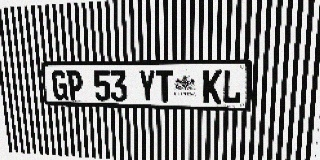3: (110, 70, 127, 102)
5: (94, 70, 111, 101)
G: (51, 70, 68, 100)
K: (203, 69, 222, 104)
L: (222, 69, 242, 104)
P: (66, 70, 83, 101)
T: (156, 70, 173, 103)
Y: (138, 70, 156, 102)
